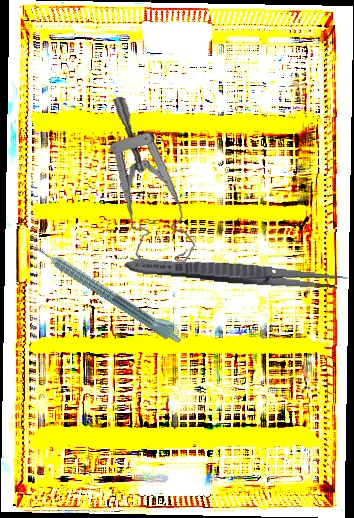Dressing Forceps: (122, 254, 350, 292)
Handpiece: (29, 234, 188, 348)
Speculum: (94, 96, 211, 269)
